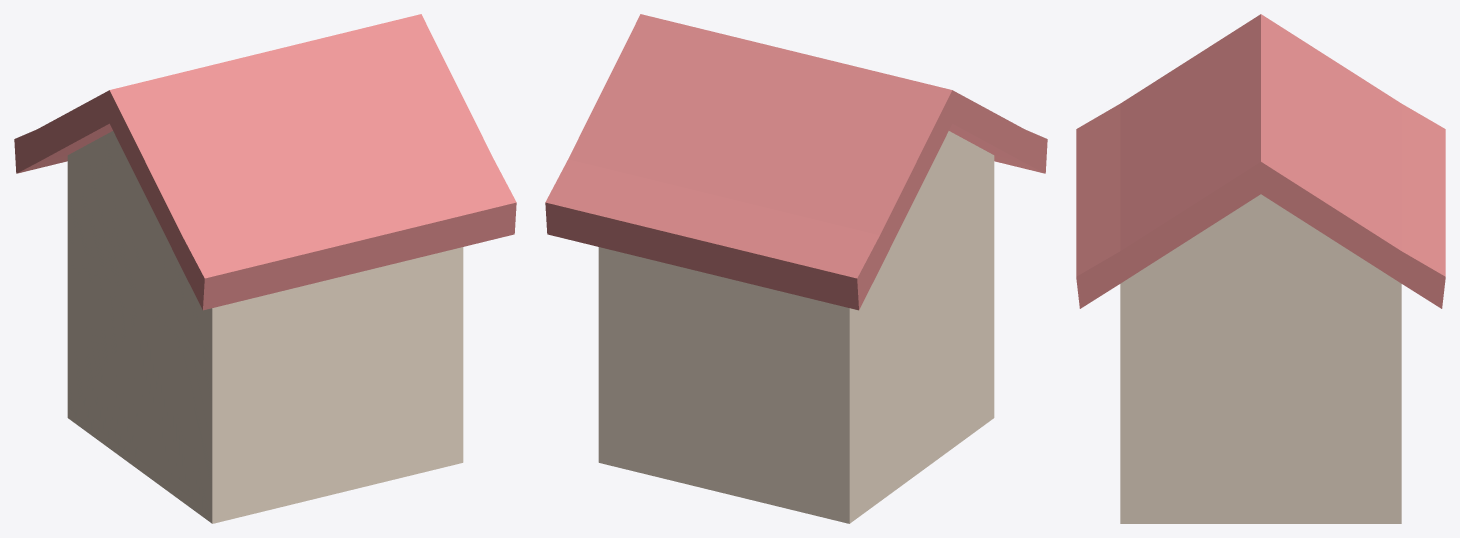
Rendered from House1.fbx.
3 views of the same model, side by side, from view 1: azimuth 30°, elevation 25°; view 2: azimuth 150°, elevation 25°; view 3: azimuth 270°, elevation 25° (orthographic). The views are drawn at different scales.
Visible parts, largest first — view 1: Cube; view 2: Cube; view 3: Cube.
Boxes of the visible parts, box(x1,y1,x2,y2) form: Cube: box(14, 14, 516, 523); Cube: box(545, 14, 1047, 523); Cube: box(1076, 14, 1445, 523).
Bounding box in the file's own units: 249 × 296 × 263.
